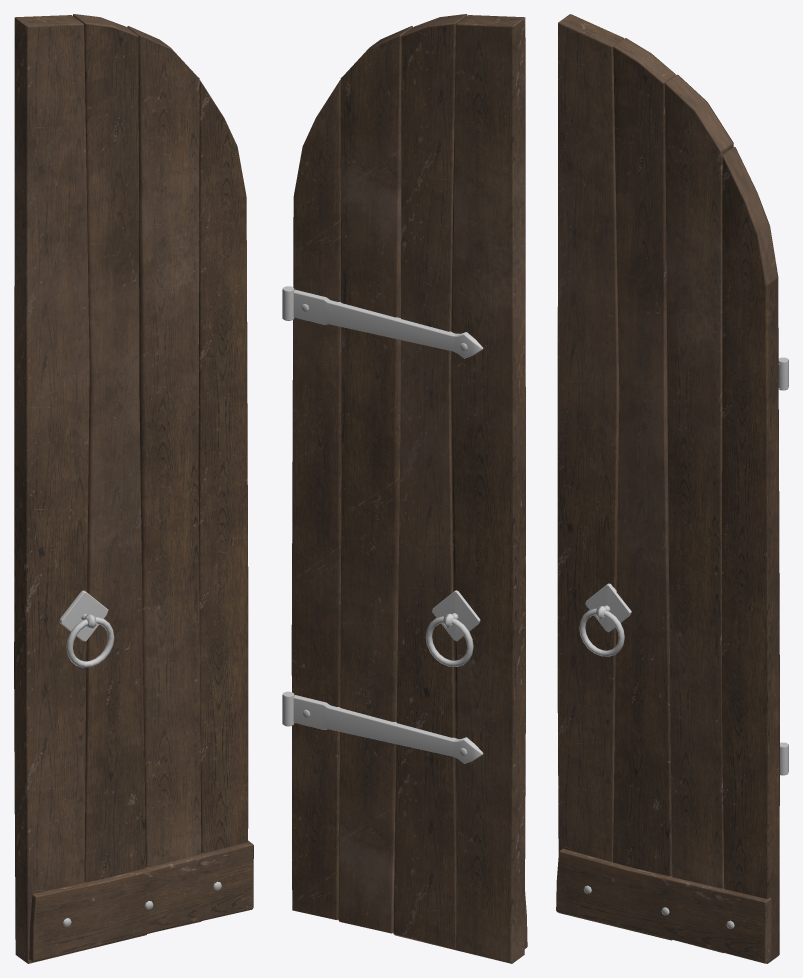
The model's file is SM_Wooden_Door_01_R.fbx.
3 renders of one model, left to right at view 1: azimuth 30°, elevation 25°; view 2: azimuth 150°, elevation 25°; view 3: azimuth 330°, elevation 25°, orthographic. The views are drawn at different scales.
Visible parts, largest first — view 1: SM_Wooden_Door_01_R_LOD0; view 2: SM_Wooden_Door_01_R_LOD0; view 3: SM_Wooden_Door_01_R_LOD0.
Boxes of the visible parts, x1=… form: SM_Wooden_Door_01_R_LOD0: x1=14, y1=14, x2=253, y2=963; SM_Wooden_Door_01_R_LOD0: x1=282, y1=14, x2=527, y2=963; SM_Wooden_Door_01_R_LOD0: x1=556, y1=14, x2=788, y2=963.
Size of what is drawn, in the model's own units: 103 by 407 by 28.6.
